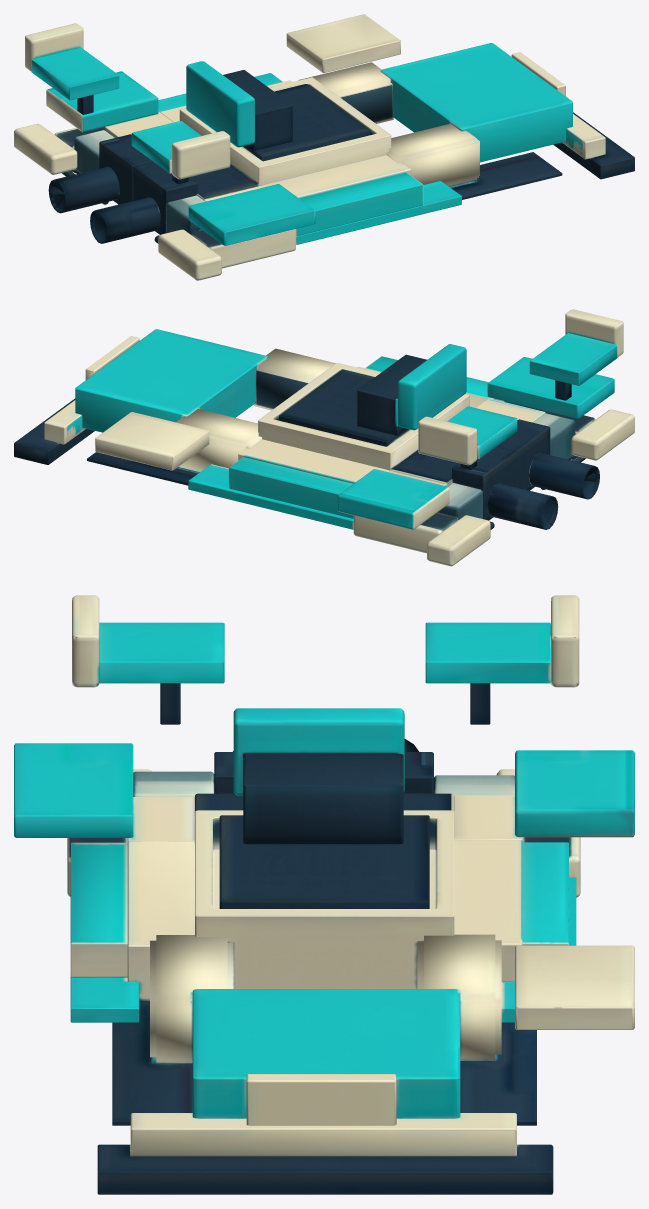
The model's file is kart.glb.
3 views of the same model, one above another, from view 1: azimuth 30°, elevation 25°; view 2: azimuth 150°, elevation 25°; view 3: azimuth 270°, elevation 25° (orthographic). The views are drawn at different scales.
Visible parts, largest first — view 1: tripo_node_f7ef8737-d179-451a-b858-8ad024d14183; view 2: tripo_node_f7ef8737-d179-451a-b858-8ad024d14183; view 3: tripo_node_f7ef8737-d179-451a-b858-8ad024d14183.
Boxes of the visible parts, x1,y1,x2,y2 form: tripo_node_f7ef8737-d179-451a-b858-8ad024d14183: [14, 14, 634, 280]; tripo_node_f7ef8737-d179-451a-b858-8ad024d14183: [14, 309, 634, 566]; tripo_node_f7ef8737-d179-451a-b858-8ad024d14183: [14, 595, 634, 1194].
Bounding box in the file's own units: 0.9995 × 0.2778 × 0.6753.
Materials: 1 (1 with a texture image).
